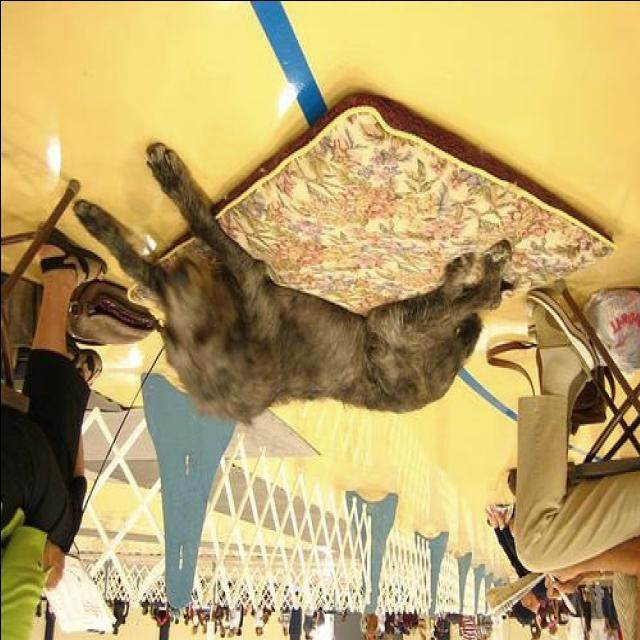irish_wolfhound: (72, 142, 514, 424)
